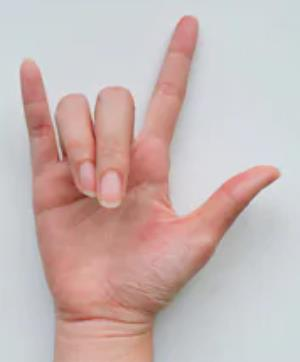back: (11, 11, 287, 309)
